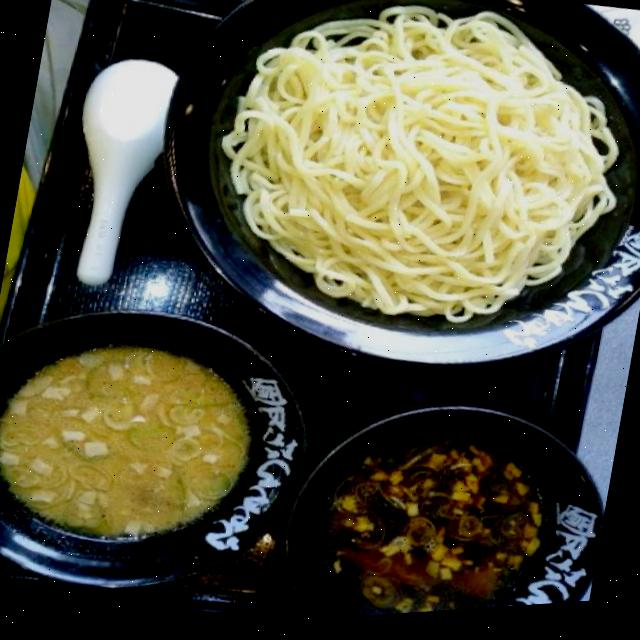面条主食: (168, 0, 640, 424), (0, 308, 310, 612), (281, 395, 617, 625)
